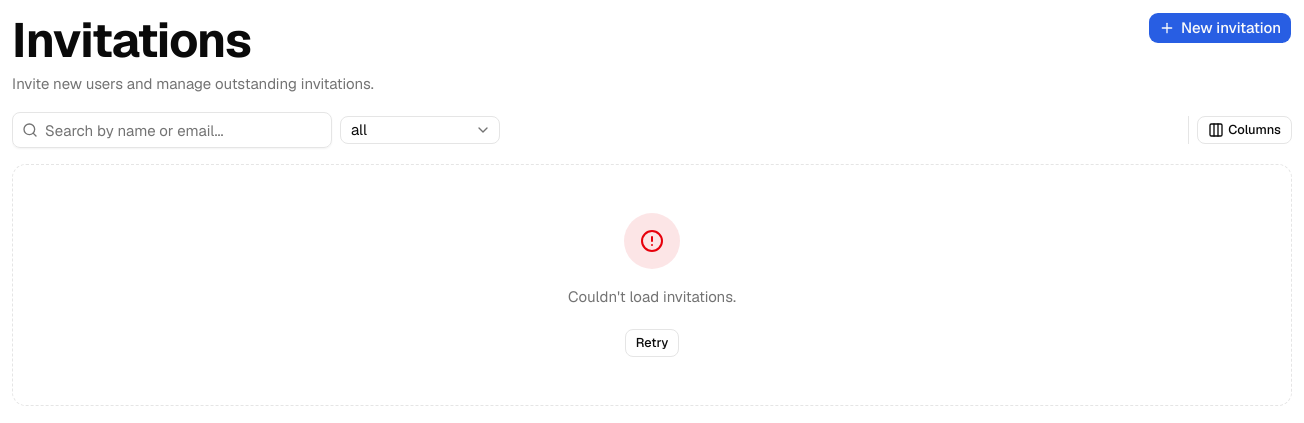
AdminInvitationsPage › shows an error state and can retry
The image size is (1304, 423).
Expected: the text "Couldn't load invitations." is shown, [568, 285, 736, 309]
Click the button "Retry".
click(652, 343)  # box [625, 329, 679, 357]
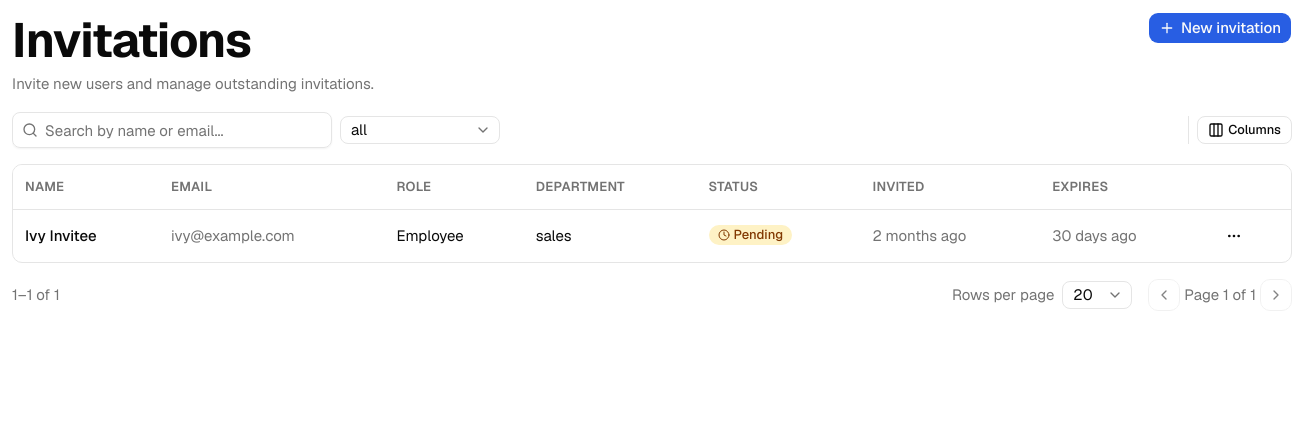
Expected: the text "Ivy Invitee" is shown, [25, 226, 97, 244]
